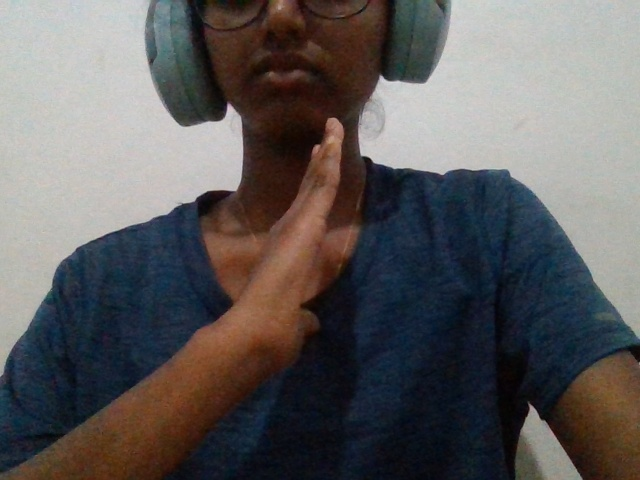Fine: (150, 88, 379, 425)
